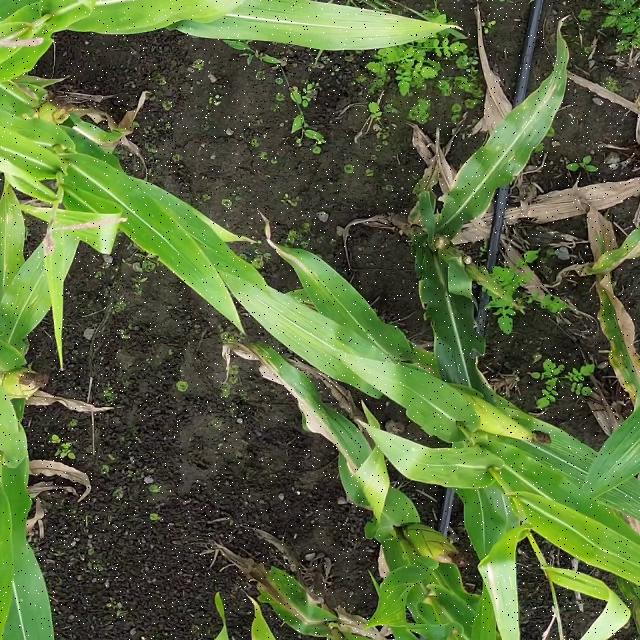gray-leaf-spot: (527, 422, 640, 558)
southern-leaf-blight: (472, 46, 574, 190), (140, 203, 252, 294), (0, 217, 63, 322)
